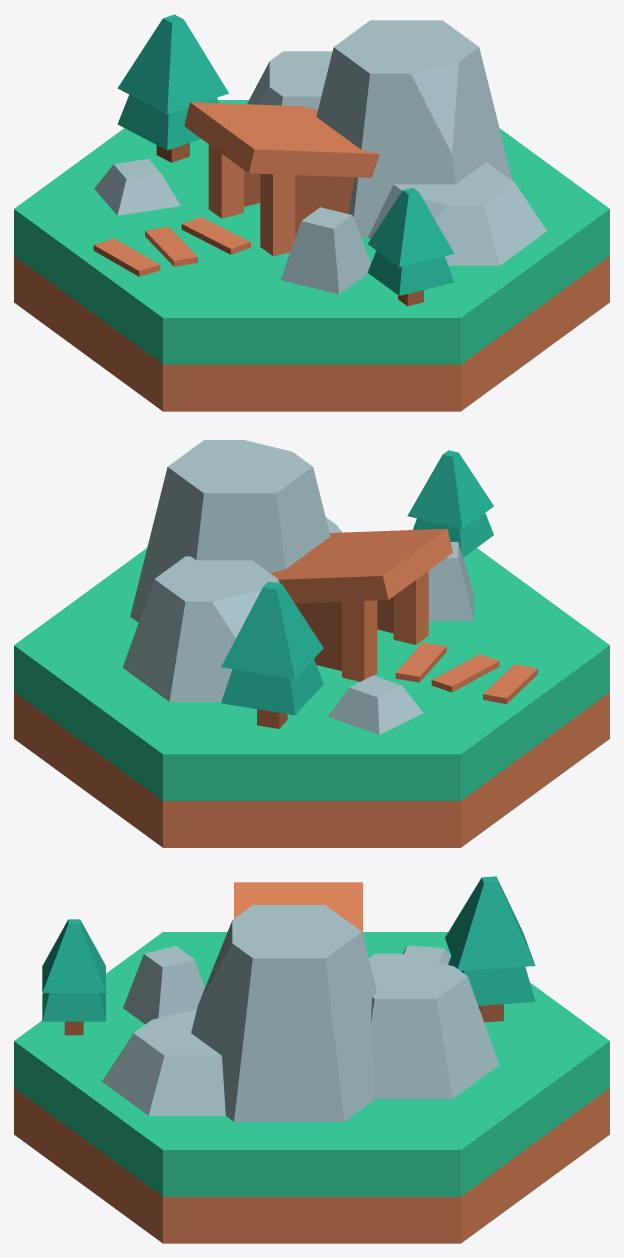
File: building_mine.fbx
The picture shows the model from 3 angles, top to bottom: view 1: azimuth 30°, elevation 25°; view 2: azimuth 150°, elevation 25°; view 3: azimuth 270°, elevation 25°; orthographic projection.
Visible parts, largest first — view 1: building_mine, rockLarge, mine, tree (×2), rock (×2), path; view 2: building_mine, rockLarge, mine, tree (×2), rock (×2), path; view 3: building_mine, rockLarge, tree (×2), rock (×2), mine.
Part boxes in pixels (box(x1,y1,x2,y2)): building_mine: box(14, 100, 609, 411); rockLarge: box(247, 20, 546, 265); mine: box(184, 102, 379, 256); tree (×2): box(117, 14, 454, 306); rock (×2): box(94, 159, 370, 294); path: box(93, 217, 250, 276); building_mine: box(14, 548, 609, 847); rockLarge: box(122, 440, 342, 701); mine: box(270, 528, 452, 681); tree (×2): box(221, 450, 493, 728); rock (×2): box(328, 542, 473, 734); path: box(395, 642, 537, 704); building_mine: box(14, 932, 609, 1243); rockLarge: box(102, 905, 499, 1121); tree (×2): box(42, 876, 535, 1035); rock (×2): box(123, 945, 450, 1024); mine: box(234, 882, 362, 934).
Size of the model in its own units: 10 by 5.2 by 11.55.
